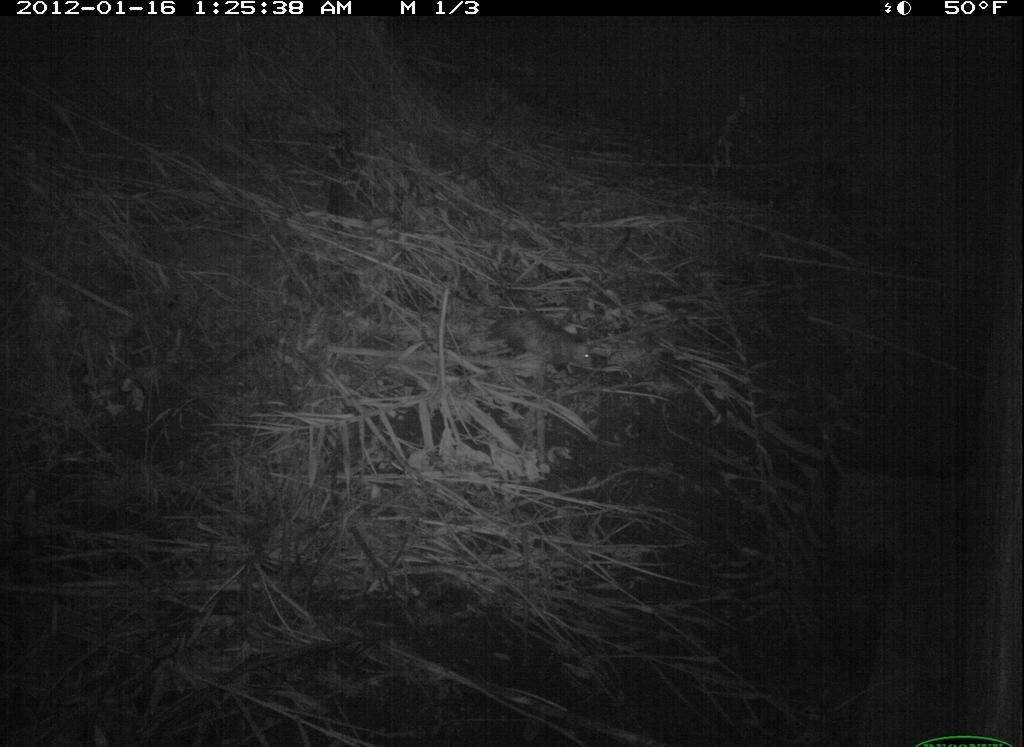opossum: (477, 295, 638, 393)
